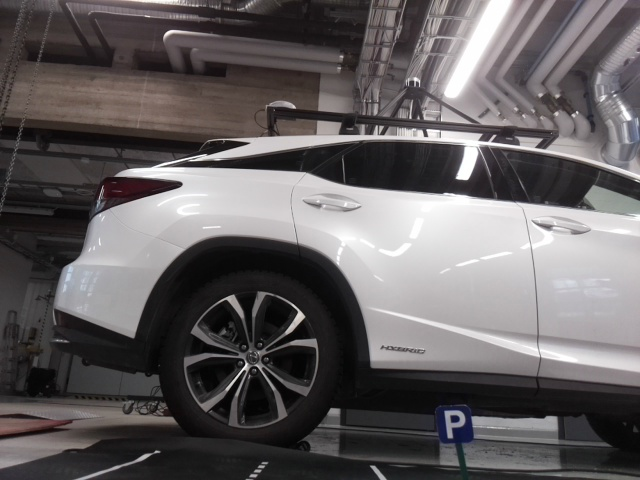Parking: (434, 405, 473, 441)
